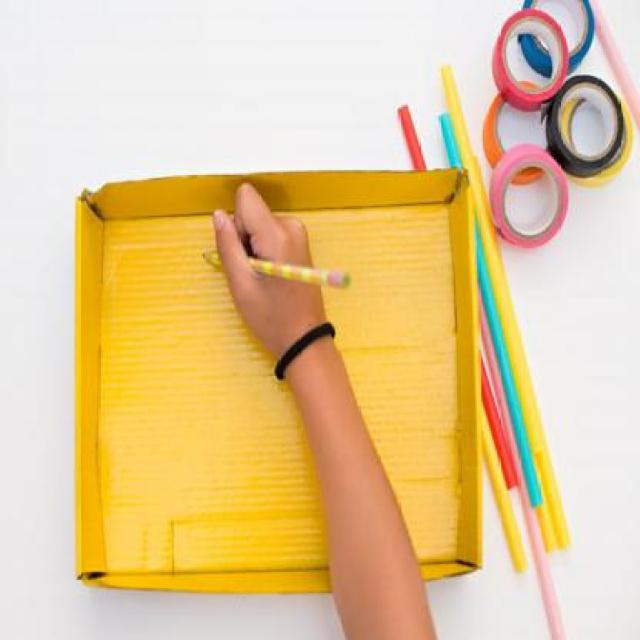box: (66, 164, 492, 622)
